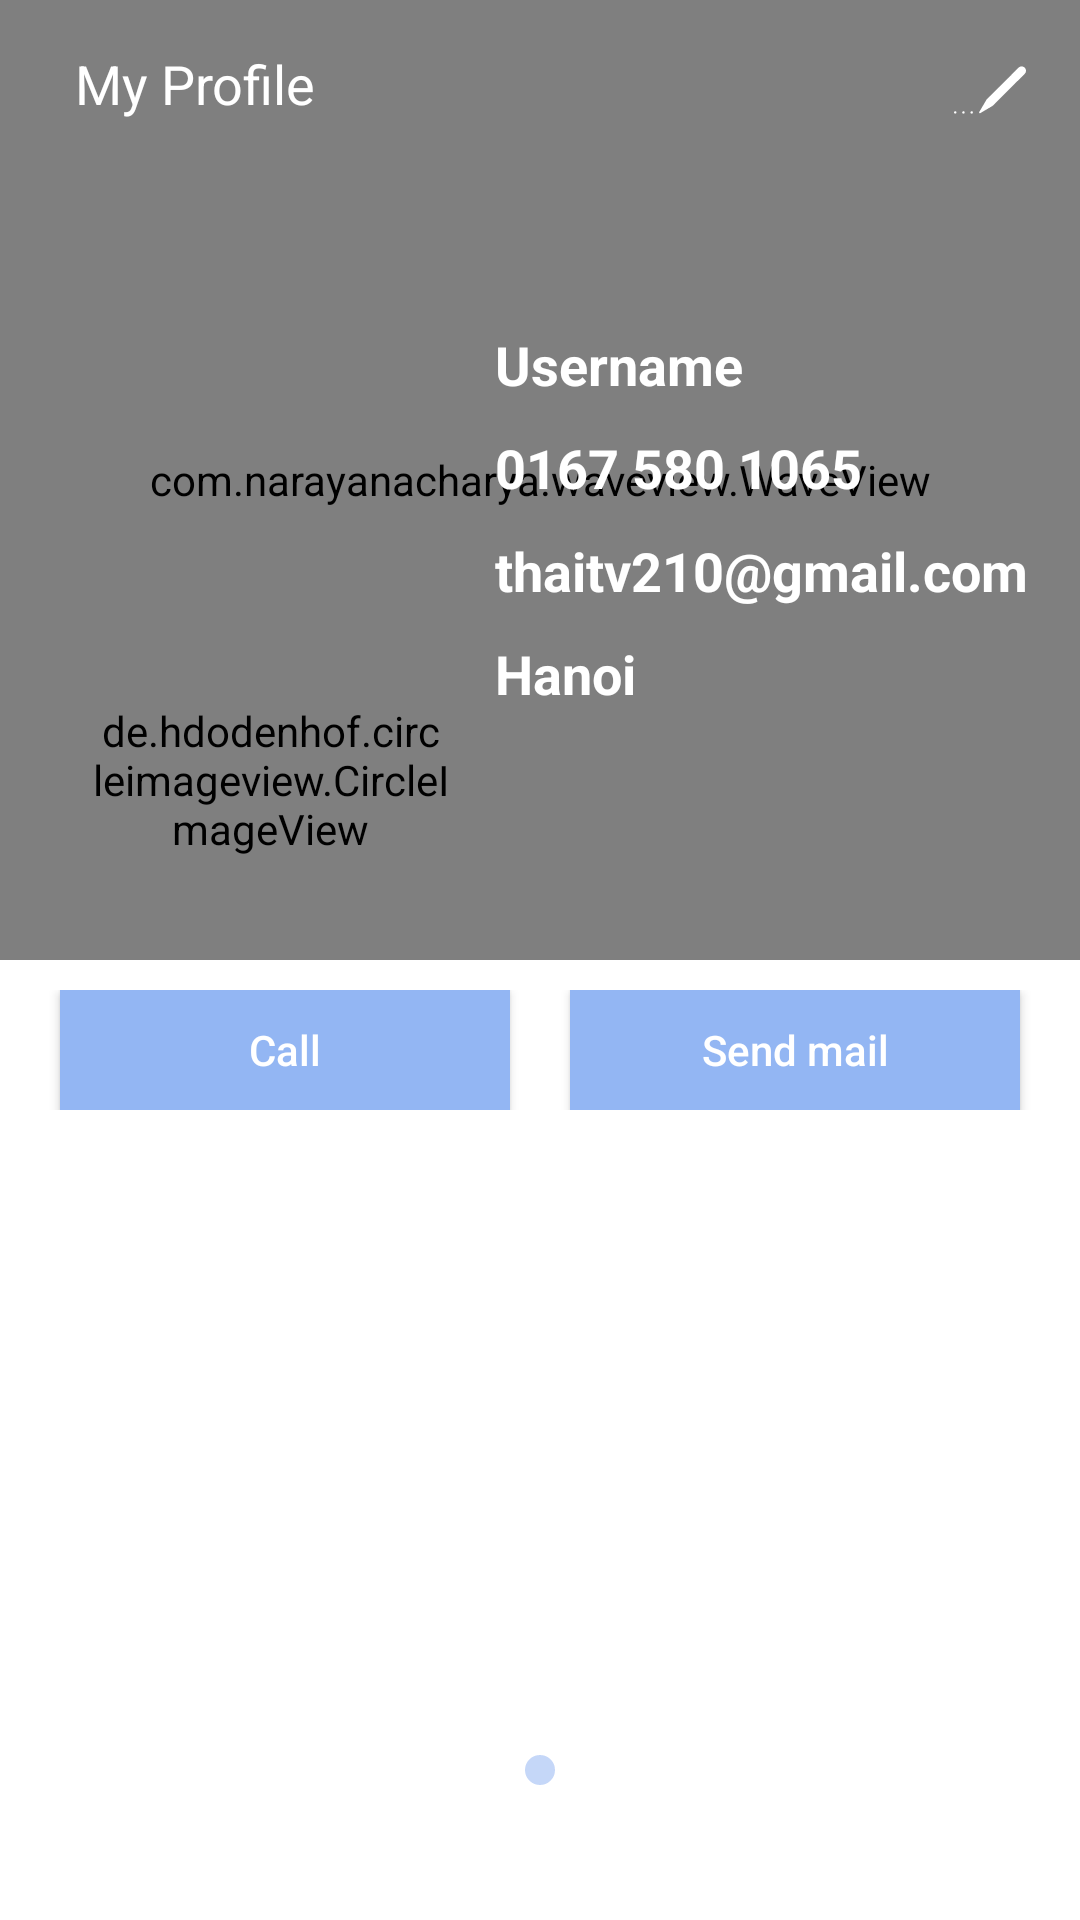

Icon bounding boxes for this 1080*1920 phone screenshot, format [x1,y1,x2,y2]:
edit: [954,66,1026,114]
